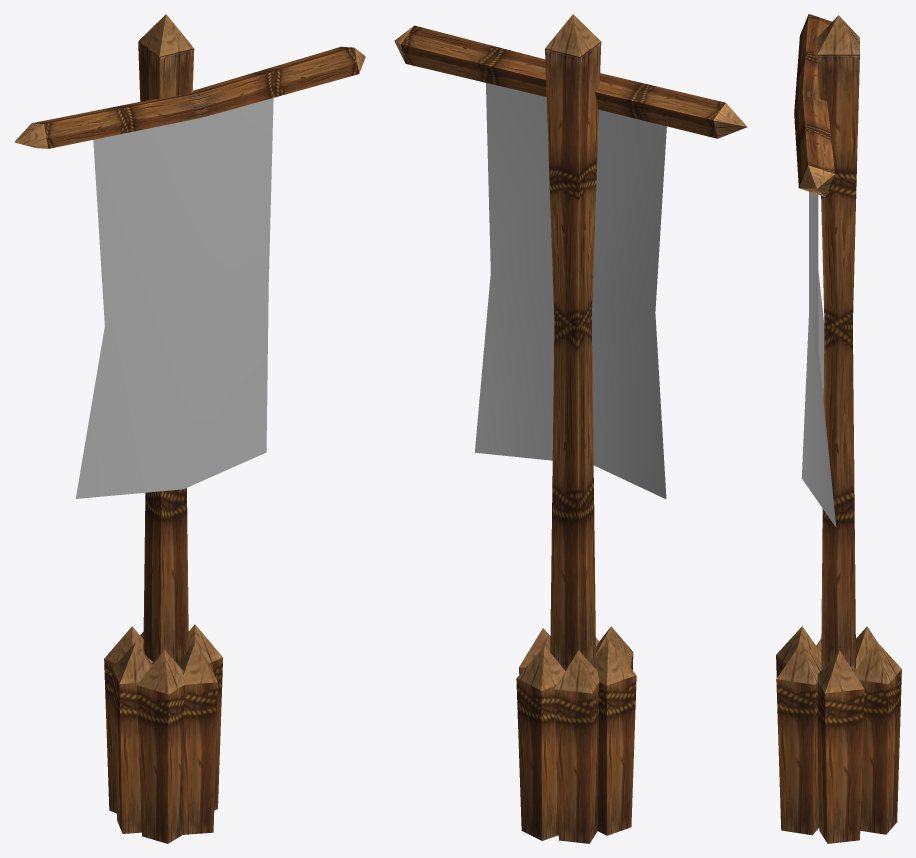
The model's file is environment_Building_yingzhai_001_e.FBX.
The picture shows the model from 3 angles, left to right: view 1: azimuth 30°, elevation 25°; view 2: azimuth 150°, elevation 25°; view 3: azimuth 270°, elevation 25°; orthographic projection.
Visible parts, largest first — view 1: environment_Building_yingzhai_001_e02, environment_Building_yingzhai_001_e01; view 2: environment_Building_yingzhai_001_e01, environment_Building_yingzhai_001_e02; view 3: environment_Building_yingzhai_001_e01, environment_Building_yingzhai_001_e02.
Boxes of the visible parts, x1,y1,x2,y2 form: environment_Building_yingzhai_001_e02: (76,98,273,498); environment_Building_yingzhai_001_e01: (14,14,365,843); environment_Building_yingzhai_001_e01: (394,14,747,843); environment_Building_yingzhai_001_e02: (475,83,666,498); environment_Building_yingzhai_001_e01: (776,14,901,843); environment_Building_yingzhai_001_e02: (801,192,836,526).
Size of the model in its own units: 209 by 64.47 by 455.
